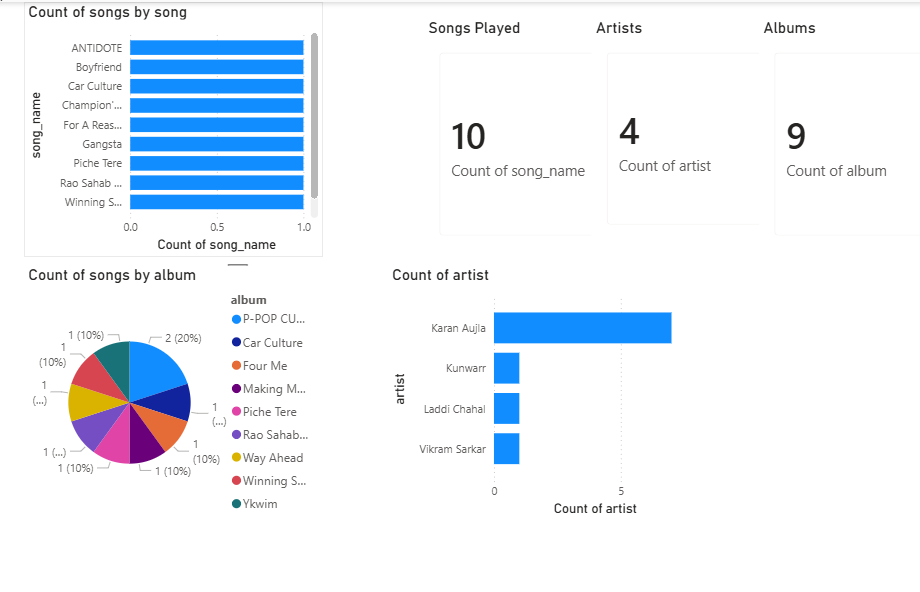

This screenshot's page, from the dashboard's own definition file:
{"tool":"powerbi","page":{"name":"Page 1","canvas":[1280,720],"ordinal":0},"visuals":[{"type":"clusteredBarChart","title":"Count of songs by song","fields":{"Category":["99eb1066-8fdf-4e9d-b196-3fd30be34a33.song_name"],"Y":["CountNonNull(99eb1066-8fdf-4e9d-b196-3fd30be34a33.song_name)"]},"box":[65.9,0,328,279.9],"z":0},{"type":"clusteredBarChart","title":"Count of artist","fields":{"Category":["99eb1066-8fdf-4e9d-b196-3fd30be34a33.artist"],"Y":["CountNonNull(99eb1066-8fdf-4e9d-b196-3fd30be34a33.artist)"]},"box":[465.2,289.5,348.5,279.9],"z":1000},{"type":"pieChart","title":"Count of songs by album","fields":{"Category":["99eb1066-8fdf-4e9d-b196-3fd30be34a33.album"],"Y":["CountNonNull(99eb1066-8fdf-4e9d-b196-3fd30be34a33.song_name)"]},"box":[66,290,328,280],"z":2000},{"type":"cardVisual","title":"Songs Played","fields":{"Data":["CountNonNull(99eb1066-8fdf-4e9d-b196-3fd30be34a33.song_name)"]},"box":[505,17.8,334.8,256.6],"z":3000},{"type":"cardVisual","title":"Artists","fields":{"Data":["Count(99eb1066-8fdf-4e9d-b196-3fd30be34a33.artist)"]},"box":[688.2,17.8,336.2,244.3],"z":4000},{"type":"cardVisual","title":" Albums","fields":{"Data":["Count(99eb1066-8fdf-4e9d-b196-3fd30be34a33.album)"]},"box":[872.7,17.8,363.6,256.6],"z":5000}]}

Visuals, with their boxes on the page's 1280x720 design canvas (x1, y1, x2, y2). These are canvas units, not pixel positions in the 920x592 screenshot, which may show the page scaled, cropped or inside an application window:
"Count of songs by song" clusteredBarChart: box(66, 0, 394, 280)
"Count of artist" clusteredBarChart: box(465, 290, 814, 569)
"Count of songs by album" pieChart: box(66, 290, 394, 570)
"Songs Played" cardVisual: box(505, 18, 840, 274)
"Artists" cardVisual: box(688, 18, 1024, 262)
" Albums" cardVisual: box(873, 18, 1236, 274)
